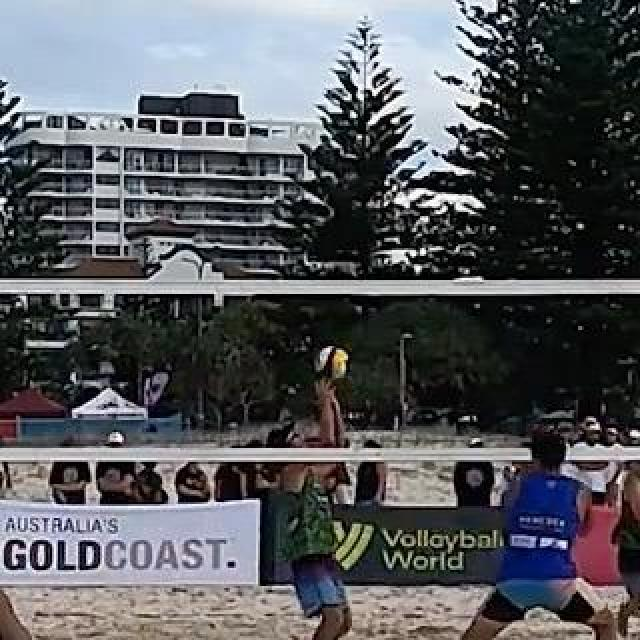volleyball: (318, 345, 348, 377)
